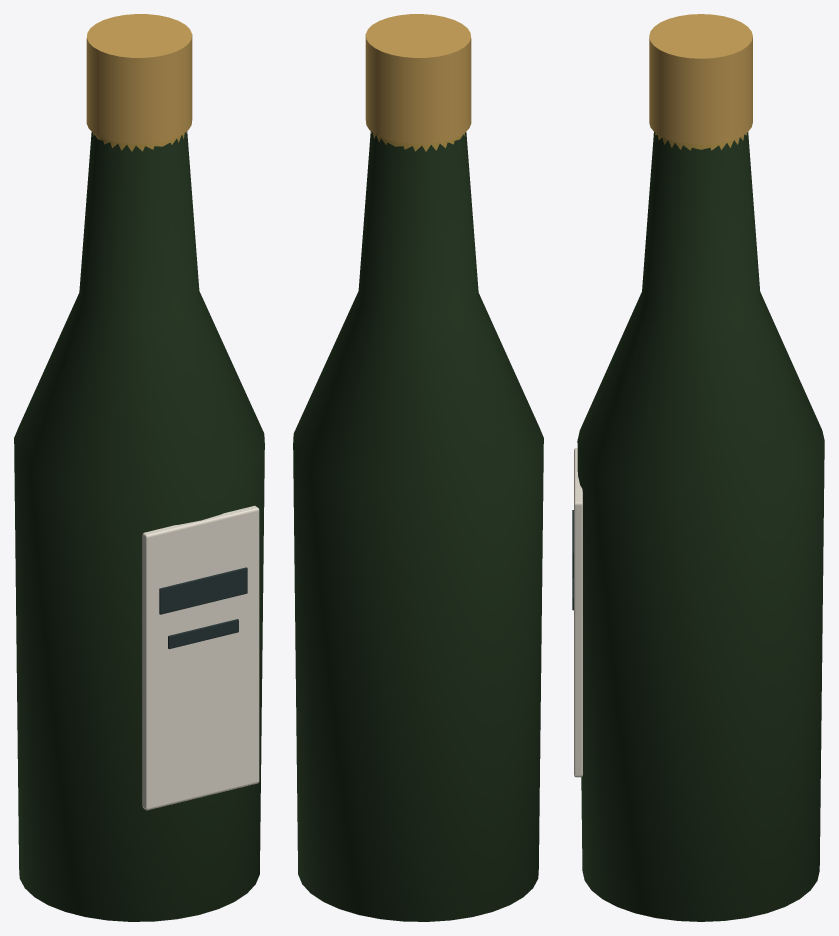
File: wp-huile-d-olive-de-provence.glb
3 views of the same model, side by side, from view 1: azimuth 30°, elevation 25°; view 2: azimuth 150°, elevation 25°; view 3: azimuth 270°, elevation 25° (orthographic).
Parts seen in each view (by area): view 1: wp-huile-d-olive-de-provence; view 2: wp-huile-d-olive-de-provence; view 3: wp-huile-d-olive-de-provence.
Boxes of the visible parts, x1,y1,x2,y2 form: wp-huile-d-olive-de-provence: (14,14,264,921); wp-huile-d-olive-de-provence: (293,14,543,921); wp-huile-d-olive-de-provence: (572,14,824,921).
Size of the model in its own units: 0.085 by 0.31 by 0.085.
